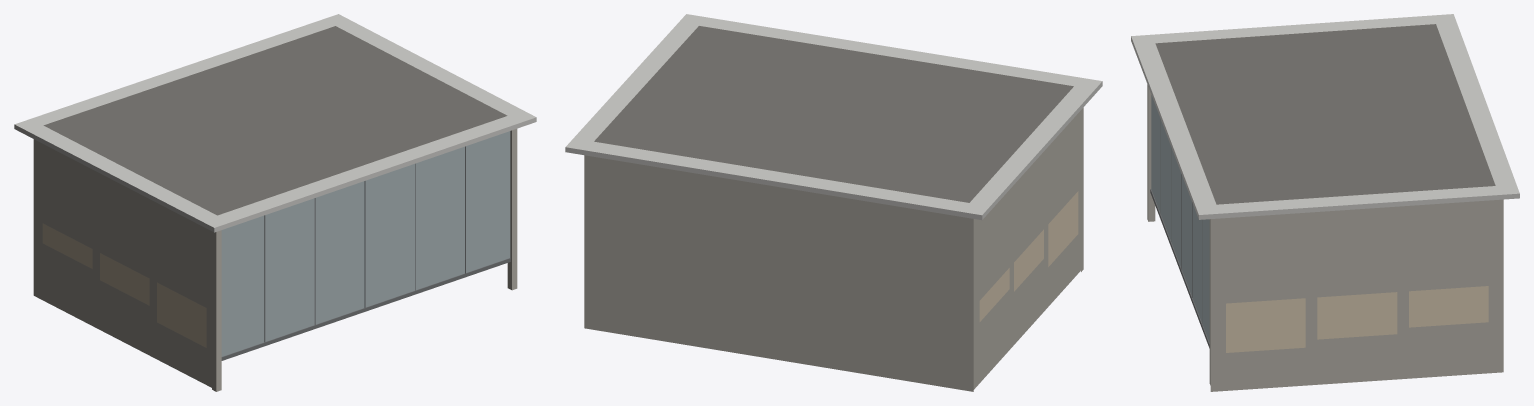
File: apple_lod1.glb
3 views of the same model, side by side, from view 1: azimuth 30°, elevation 25°; view 2: azimuth 150°, elevation 25°; view 3: azimuth 270°, elevation 25° (orthographic). The views are drawn at different scales.
Parts seen in each view (by area): view 1: L1_roof, L1_clear, L1_stone, L1_paint, L1_shop, L1_metal; view 2: L1_stone, L1_roof, L1_paint, L1_shop; view 3: L1_roof, L1_stone, L1_paint, L1_shop, L1_clear, L1_metal.
Boxes of the visible parts, <box> form: L1_roof: <box>43,26,507,215</box>; L1_clear: <box>221,131,510,356</box>; L1_stone: <box>33,129,517,391</box>; L1_paint: <box>14,14,536,232</box>; L1_shop: <box>42,223,206,347</box>; L1_metal: <box>221,146,510,360</box>; L1_stone: <box>584,107,1083,391</box>; L1_roof: <box>594,26,1073,202</box>; L1_paint: <box>565,14,1102,220</box>; L1_shop: <box>979,191,1078,321</box>; L1_roof: <box>1155,24,1495,204</box>; L1_stone: <box>1147,84,1503,391</box>; L1_paint: <box>1131,14,1519,219</box>; L1_shop: <box>1226,286,1488,352</box>; L1_clear: <box>1151,95,1209,342</box>; L1_metal: <box>1150,119,1209,348</box>.
Bounding box in the file's own units: 40.38 × 17.22 × 32.99.
